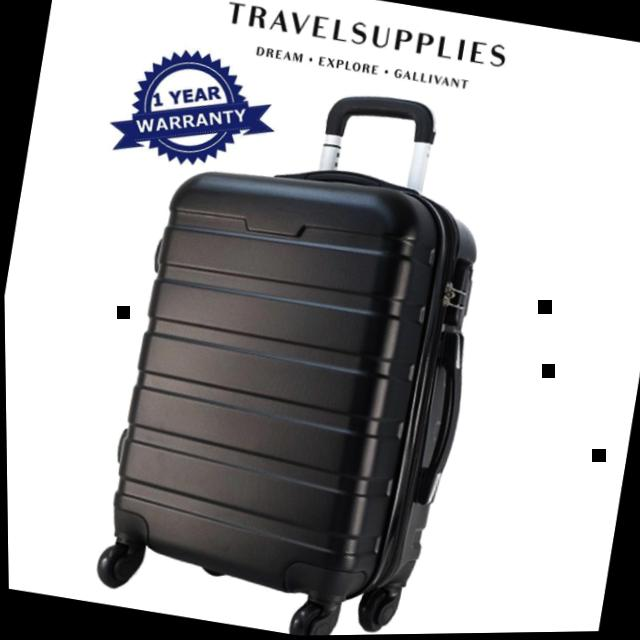luggage: (85, 134, 506, 631)
